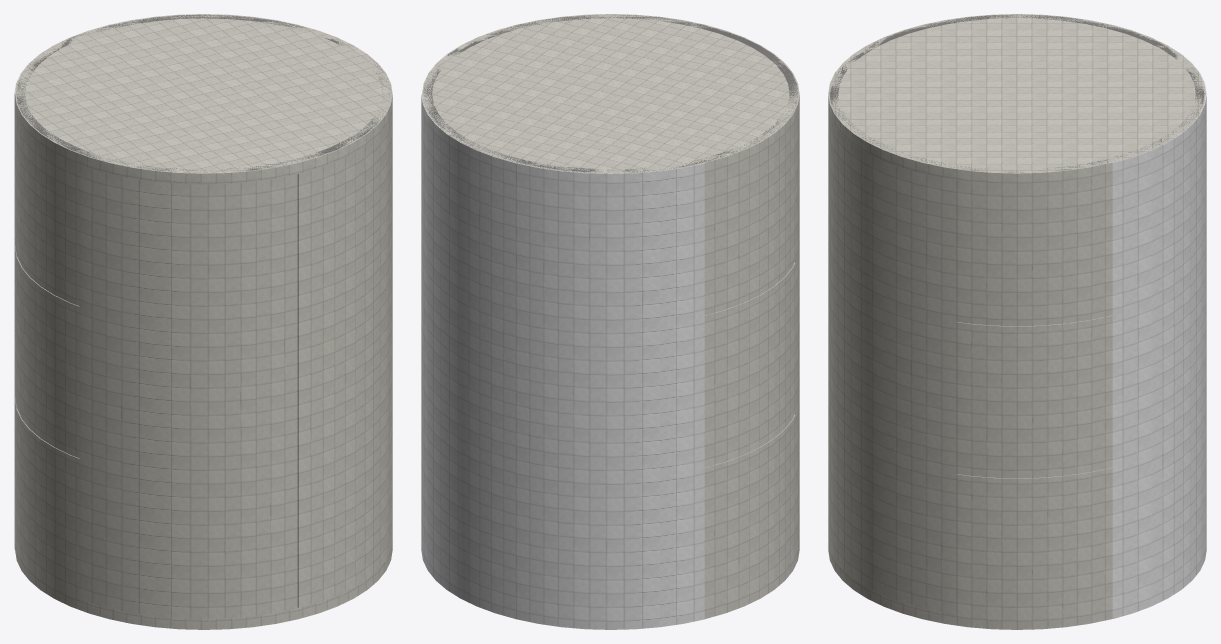
Rendered from ax_aero_13_fs3c_cargo_bay.glb.
3 views of the same model, side by side, from view 1: azimuth 30°, elevation 25°; view 2: azimuth 150°, elevation 25°; view 3: azimuth 270°, elevation 25° (orthographic).
Visible parts, largest first — view 1: door_r, fuselage, door_l, end_frames, belly_tiles; view 2: belly_tiles, fuselage, end_frames, door_r; view 3: fuselage, door_l, belly_tiles, end_frames.
Boxes of the visible parts, bbox=[...] form: door_r: bbox=[79, 165, 297, 618]; fuselage: bbox=[15, 14, 392, 629]; door_l: bbox=[297, 106, 392, 607]; end_frames: bbox=[16, 14, 390, 172]; belly_tiles: bbox=[14, 14, 297, 549]; belly_tiles: bbox=[421, 94, 704, 629]; fuselage: bbox=[422, 14, 799, 618]; end_frames: bbox=[423, 15, 798, 172]; door_r: bbox=[795, 106, 799, 553]; fuselage: bbox=[828, 14, 1205, 629]; door_l: bbox=[828, 106, 956, 614]; belly_tiles: bbox=[1112, 25, 1206, 618]; end_frames: bbox=[829, 14, 1204, 172].
Size of the model in its own units: 3.75 by 5 by 3.76.
Materials: 4 (3 with a texture image).
